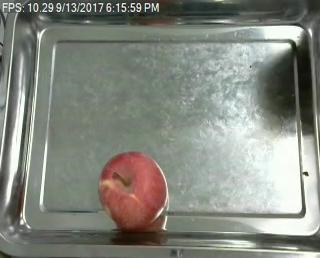apple: (99, 152, 169, 230)
